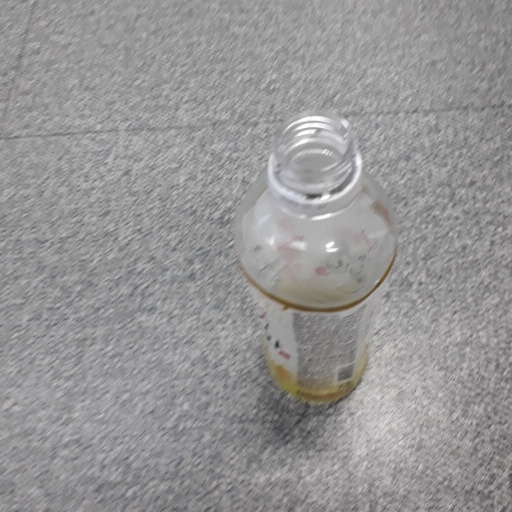Plastic_0: (233, 110, 397, 415)
